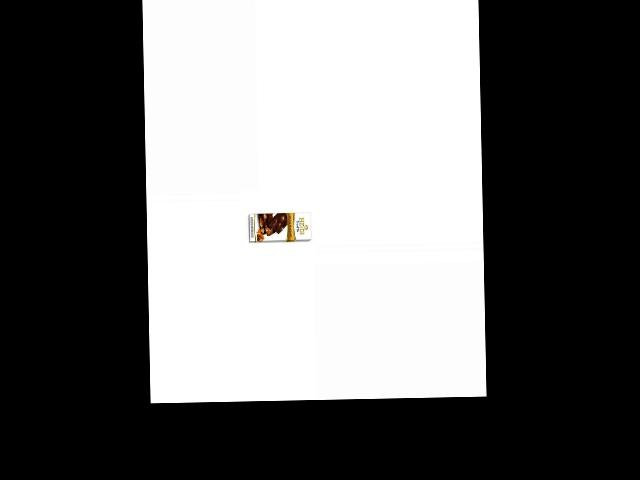chocolate: (248, 205, 315, 248)
